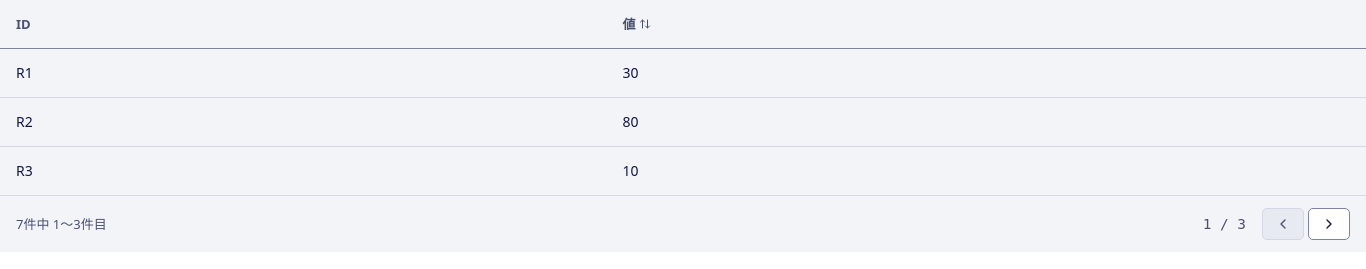
Test case: Tables and measures › sorts every row before cutting the page, and goes back to page 1 when the order changes
Check: the text "7件中 1〜3件目" is shown, box [16, 214, 107, 234]
Click the button named "次のページ" at [1329, 224], box [1308, 208, 1350, 240]
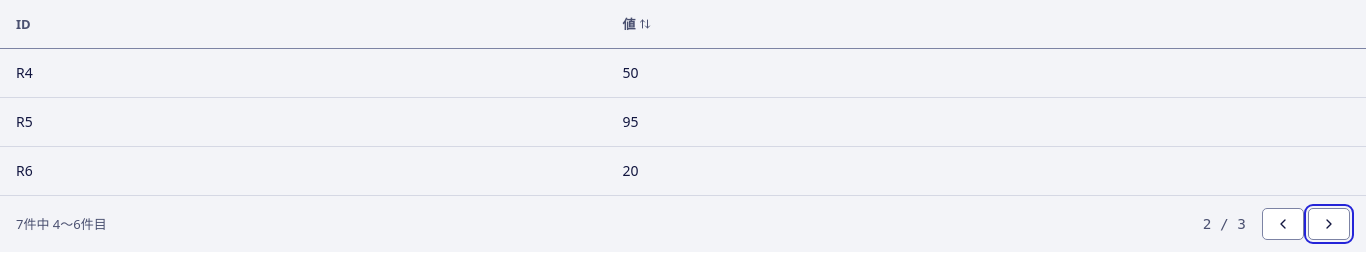
Check: the row "R4 50" is shown, box [0, 49, 1365, 98]
Click the button "値" at [637, 24], box [622, 12, 652, 36]
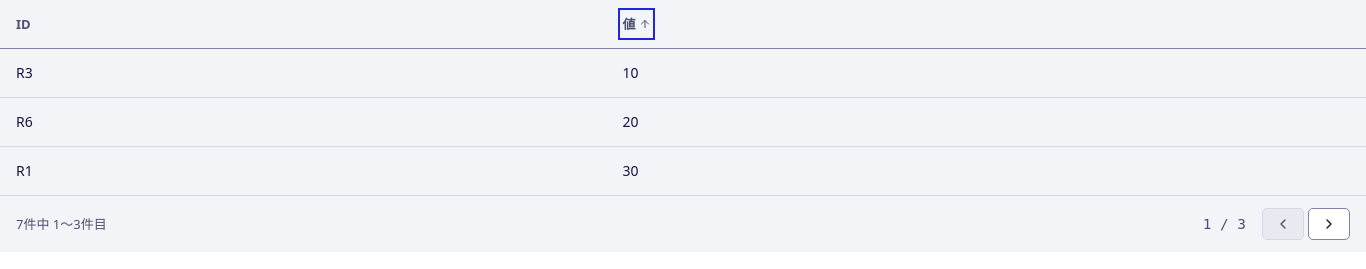
Check: the rows read "ID値", "R310", "R620", "R130", in this order, box [0, 0, 1365, 49]; [0, 49, 1365, 98]; [0, 98, 1365, 147]; [0, 147, 1365, 195]
Click the button named "次のページ" at [1329, 224], box [1308, 208, 1350, 240]
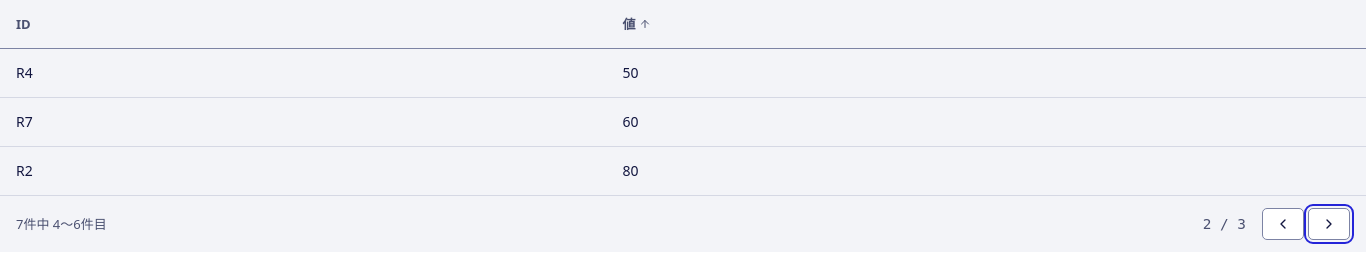
Click the button named "次のページ" at [1329, 224], box [1308, 208, 1350, 240]
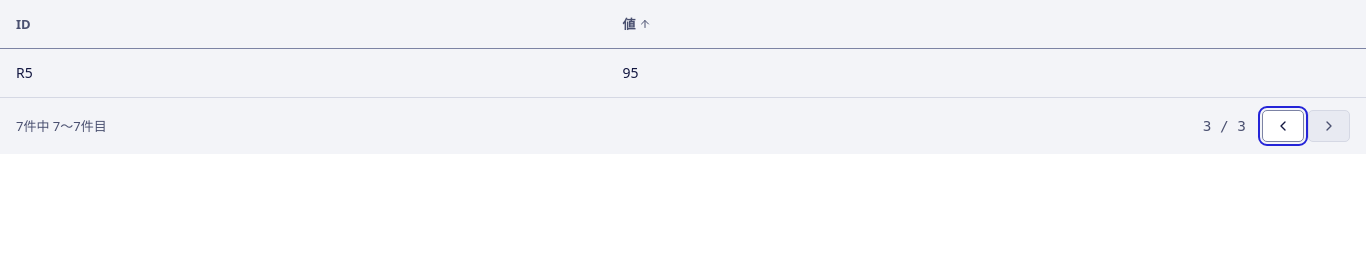
Check: the rows read "ID値", "R595", in this order, box [0, 0, 1365, 49]; [0, 49, 1365, 97]
Check: the text "7件中 7〜7件目" is shown, box [16, 116, 107, 136]
